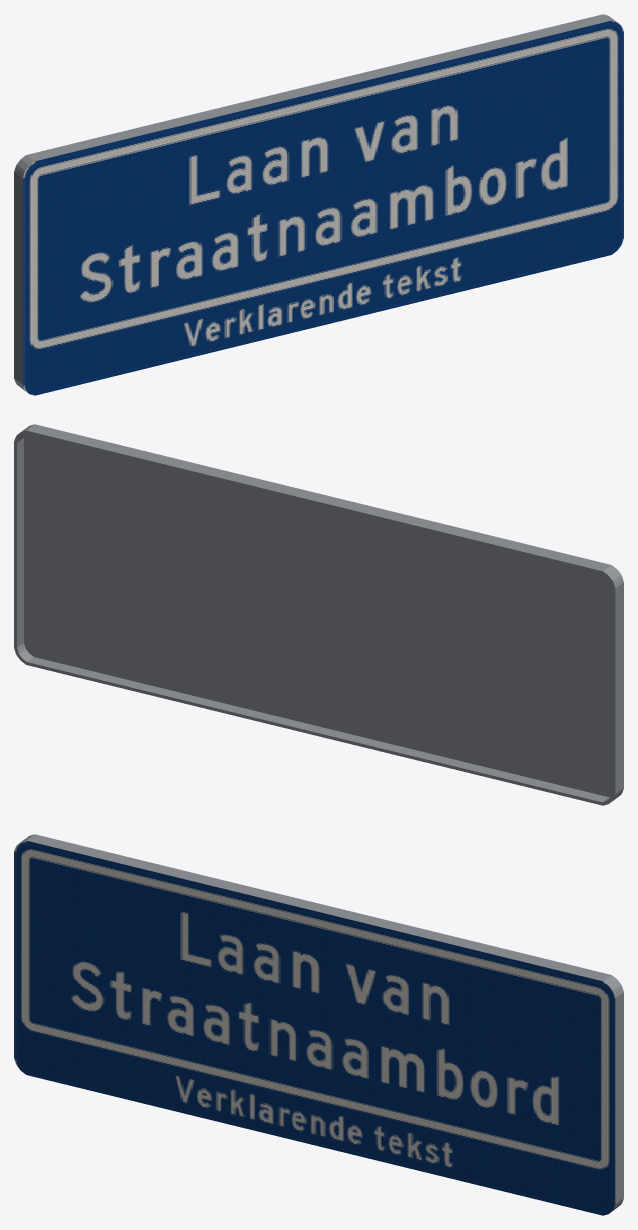
The picture shows the model from 3 angles, top to bottom: view 1: azimuth 30°, elevation 25°; view 2: azimuth 150°, elevation 25°; view 3: azimuth 330°, elevation 25°; orthographic projection.
Visible parts, largest first — view 1: cat_ca61daaec3eac082; view 2: cat_ca61daaec3eac082; view 3: cat_ca61daaec3eac082.
Part boxes in pixels (x1,y1,x2,y2): cat_ca61daaec3eac082: (14,14,623,395); cat_ca61daaec3eac082: (14,424,623,805); cat_ca61daaec3eac082: (14,834,623,1215).
Size of the model in its own units: 0.6 by 0.015 by 0.2235.
2 materials, 1 textured.
